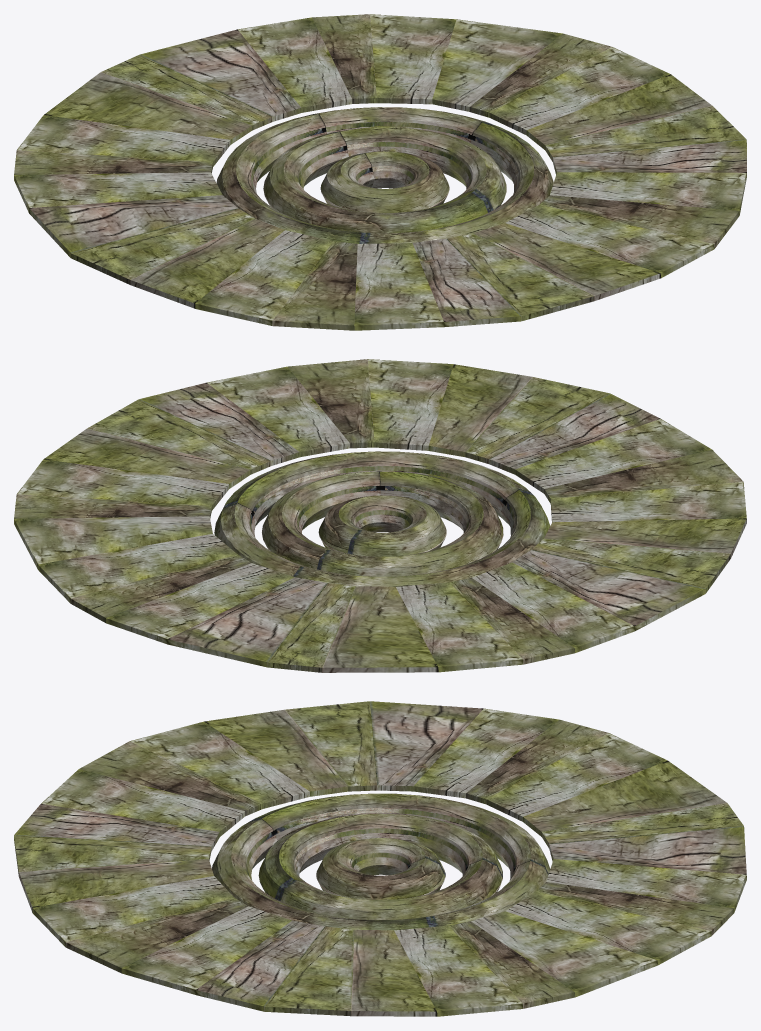
Rendered from circle-ramp_2_colider.fbx.
3 views of the same model, one above another, from view 1: azimuth 30°, elevation 25°; view 2: azimuth 150°, elevation 25°; view 3: azimuth 270°, elevation 25° (orthographic).
Visible parts, largest first — view 1: Circle_ramp2; view 2: Circle_ramp2; view 3: Circle_ramp2.
Part boxes in pixels (box(x1,y1,x2,y2)): Circle_ramp2: box(14, 14, 746, 330); Circle_ramp2: box(14, 359, 746, 672); Circle_ramp2: box(14, 701, 746, 1016).
Bounding box in the file's own units: 655 × 36.07 × 653.
